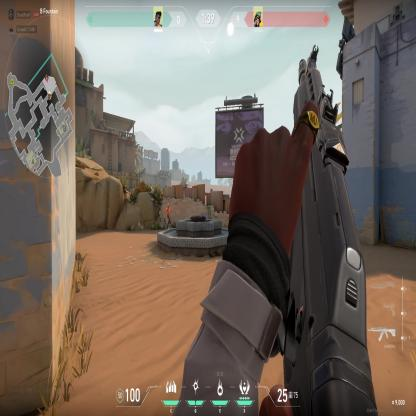enemy: (165, 202, 171, 229)
